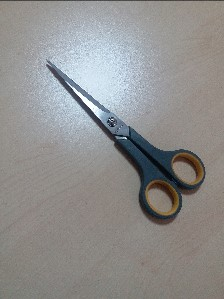scissors: (44, 64, 206, 224)
